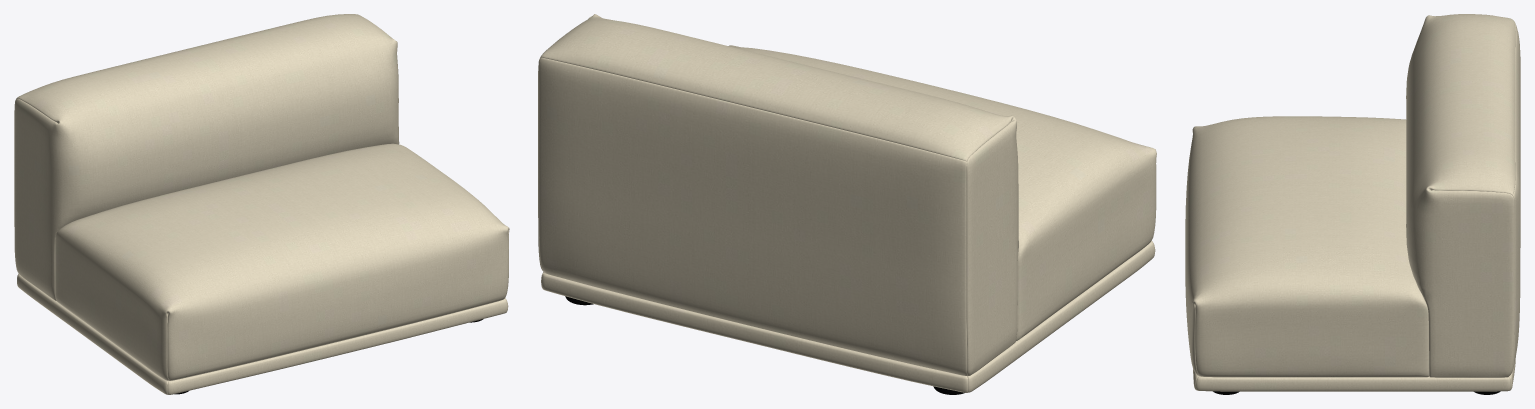
File: VIDAR-146.glb
3 renders of one model, left to right at view 1: azimuth 30°, elevation 25°; view 2: azimuth 150°, elevation 25°; view 3: azimuth 270°, elevation 25°, orthographic. The views are drawn at different scales.
Visible parts, largest first — view 1: Upholstery_ARSD0; view 2: Upholstery_ARSD0; view 3: Upholstery_ARSD0.
Boxes of the visible parts, x1,y1,x2,y2 form: Upholstery_ARSD0: (14,14,509,394); Upholstery_ARSD0: (538,14,1156,392); Upholstery_ARSD0: (1185,14,1520,391).
Size of the model in its own units: 1.2 by 0.7009 by 0.9536.
2 materials, 2 textured.
